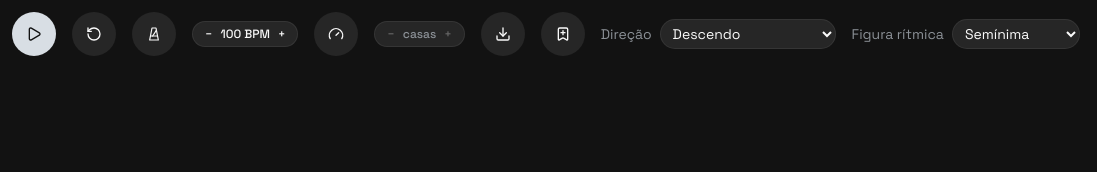
Scenario: ControlBar › taking the tablature out › offers the two printable formats
The width and height of the screenshot is (1097, 172).
Step 1. Click the button named "baixar tablatura" → (503, 34), box [481,12,525,56]
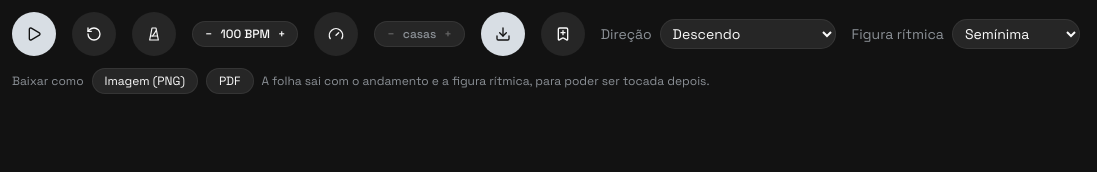
Check: the button "Imagem (PNG)" is shown, box [92,68,198,94]
Check: the button "PDF" is shown, box [206,68,254,94]
